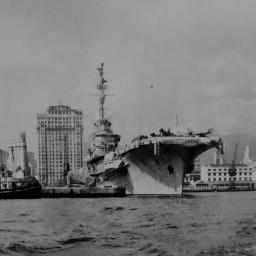Portanaves: (50, 62, 226, 201)
